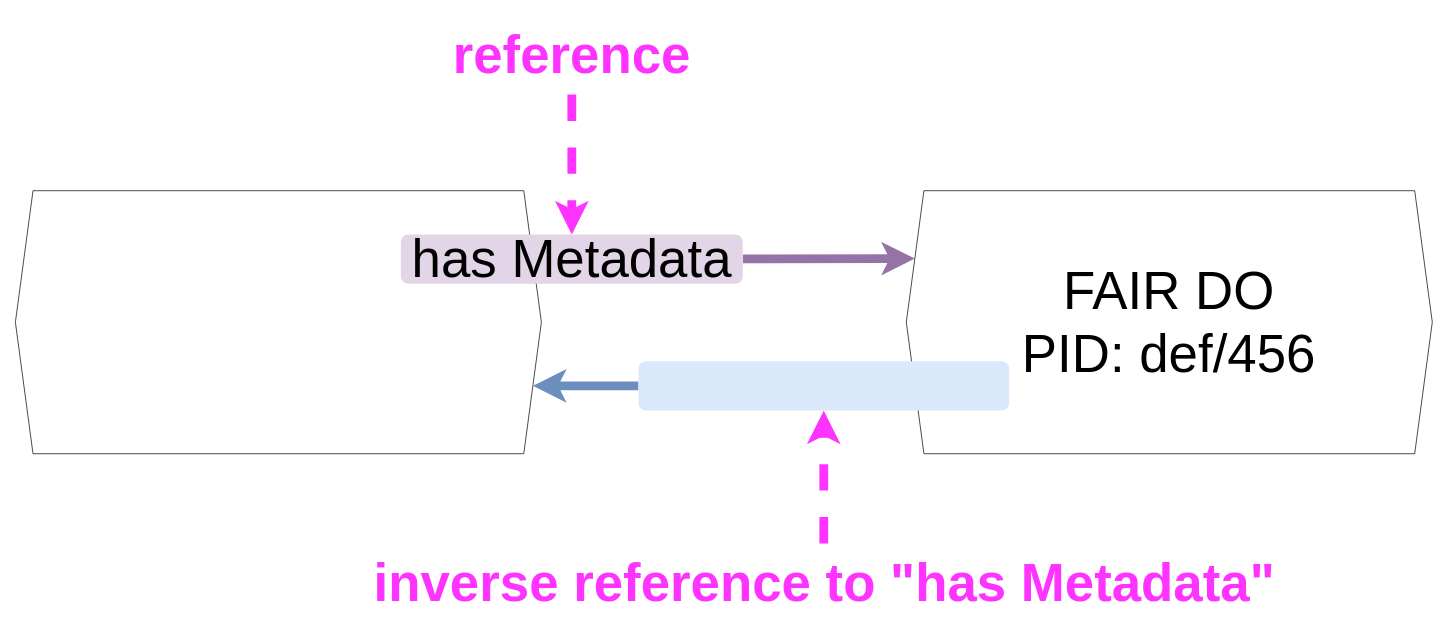
This 1448x637 diagram has some shape labels left out. Here are the shapes that lost their labels. From the top down, the centre of each, then its label:
At [278,322]: "FAIR DO PID: abc/123".
At [823,385]: "is Metadata for".
